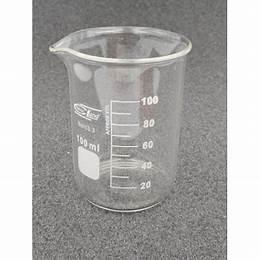Beaker: (48, 19, 195, 213)
